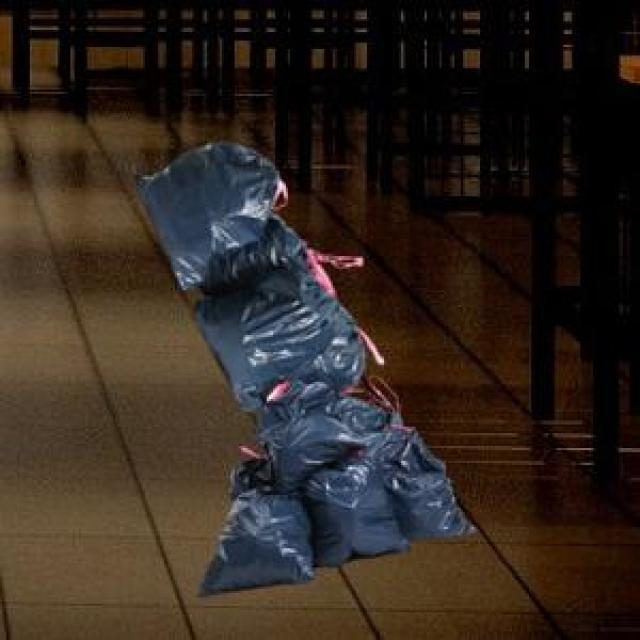waste: (138, 142, 471, 594)
